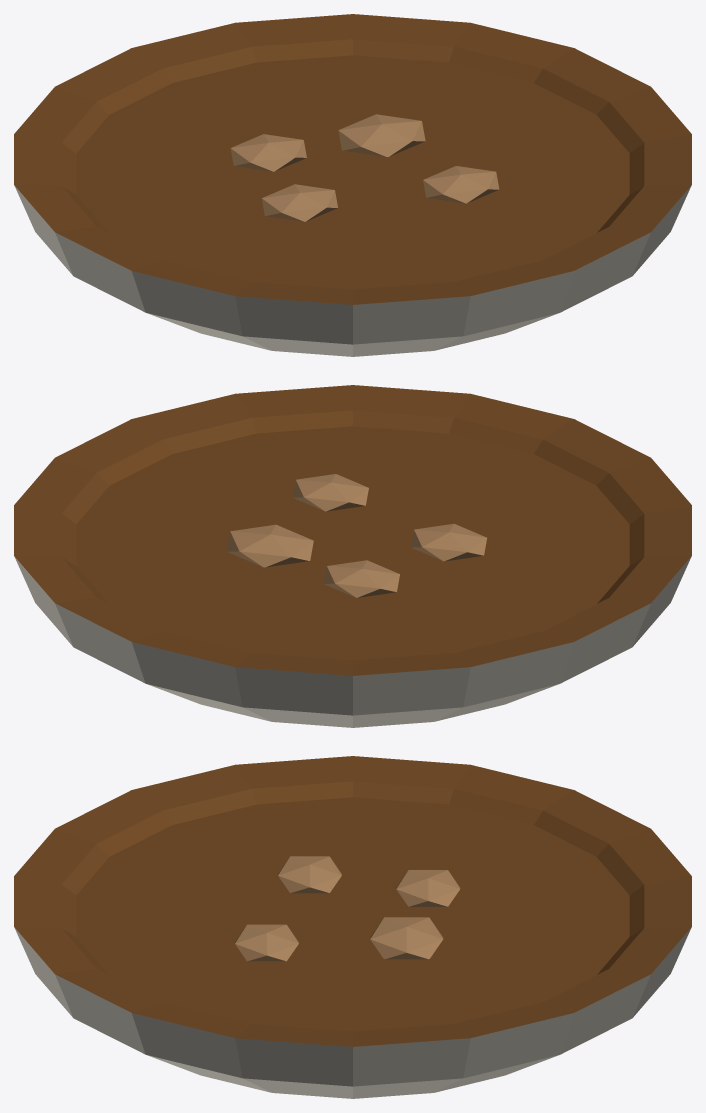
File: Savory_Soup.glb
The picture shows the model from 3 angles, top to bottom: view 1: azimuth 30°, elevation 25°; view 2: azimuth 150°, elevation 25°; view 3: azimuth 270°, elevation 25°; orthographic projection.
Parts seen in each view (by area): view 1: _I_SavorySoup; view 2: _I_SavorySoup; view 3: _I_SavorySoup.
Part boxes in pixels (x1,y1,x2,y2): _I_SavorySoup: (14, 14, 691, 356); _I_SavorySoup: (14, 385, 691, 727); _I_SavorySoup: (14, 756, 691, 1098).
Bounding box in the file's own units: 0.64 × 0.122 × 0.6303.
